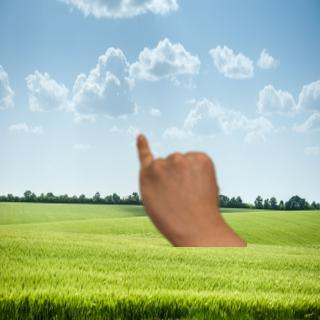FINE: (133, 131, 226, 238)
